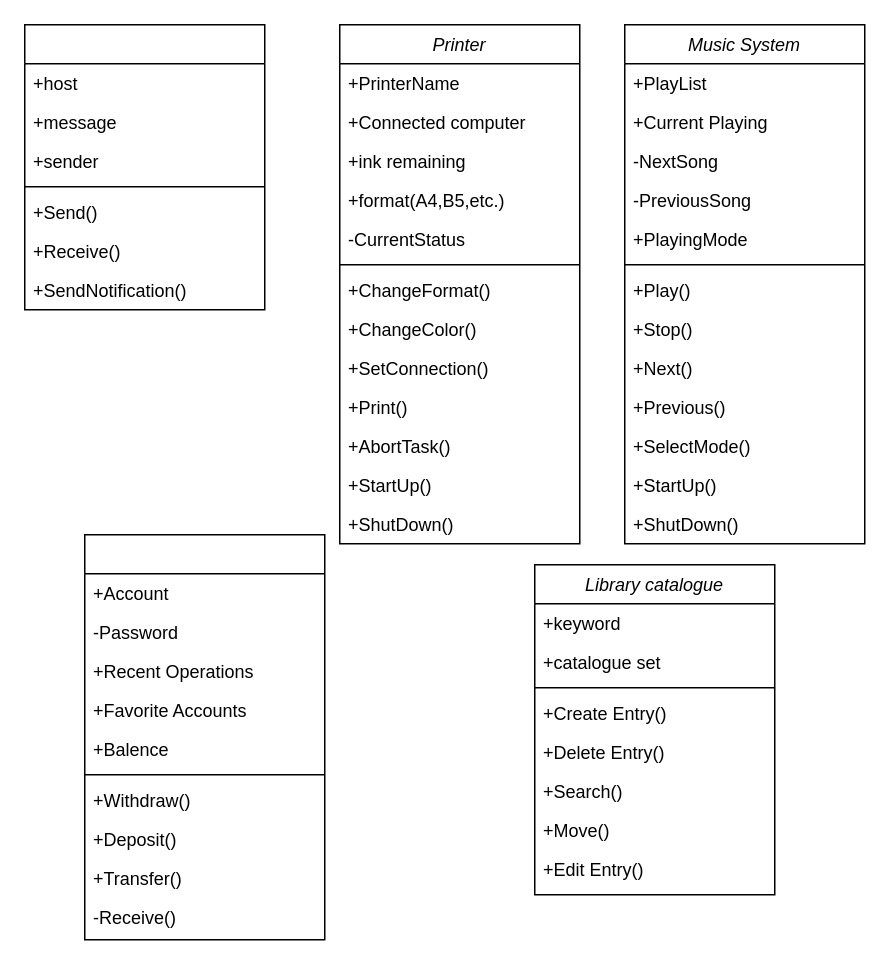
Image size: 890x965. Some labels were removed from this diagram. Each missing label, with the box of its shape:
Bank Account: (83, 533, 325, 940)
Message System: (23, 23, 265, 310)
